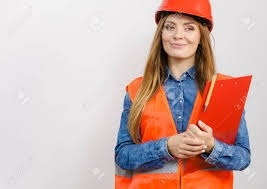helmet: (152, 1, 216, 37)
person with full safety: (116, 1, 234, 188)
safety vest: (125, 73, 231, 187)
